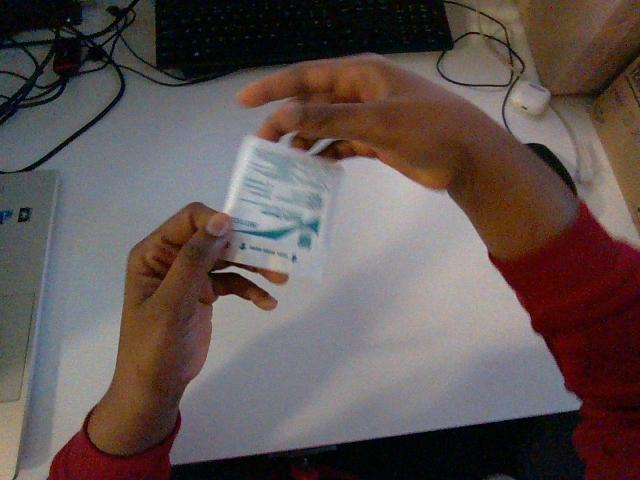gauze: (224, 136, 343, 277)
